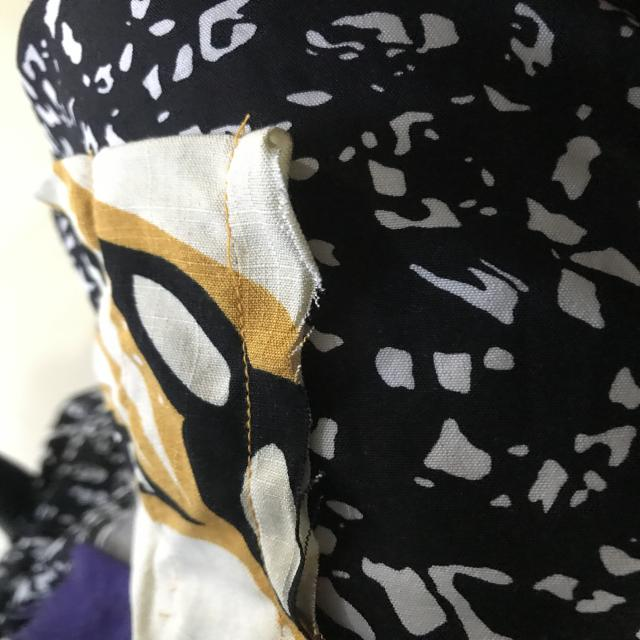skip: (203, 220, 252, 300)
